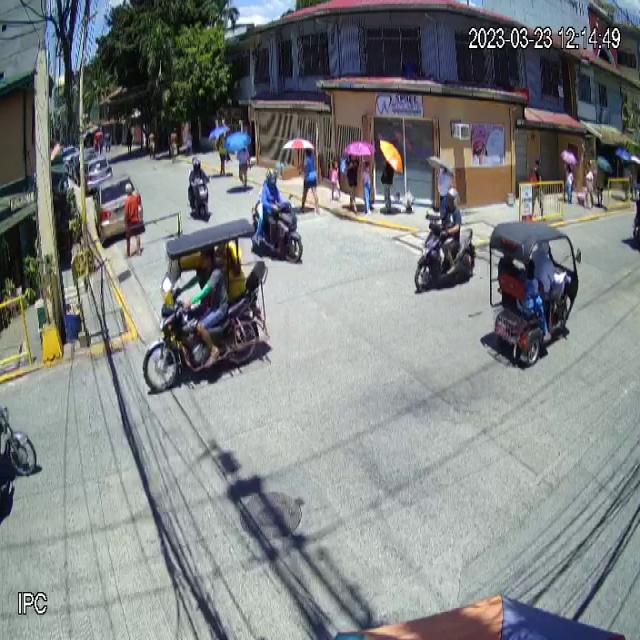Motorcycle: (414, 216, 476, 294), (251, 192, 304, 266)
Tricycle: (140, 217, 270, 394)
